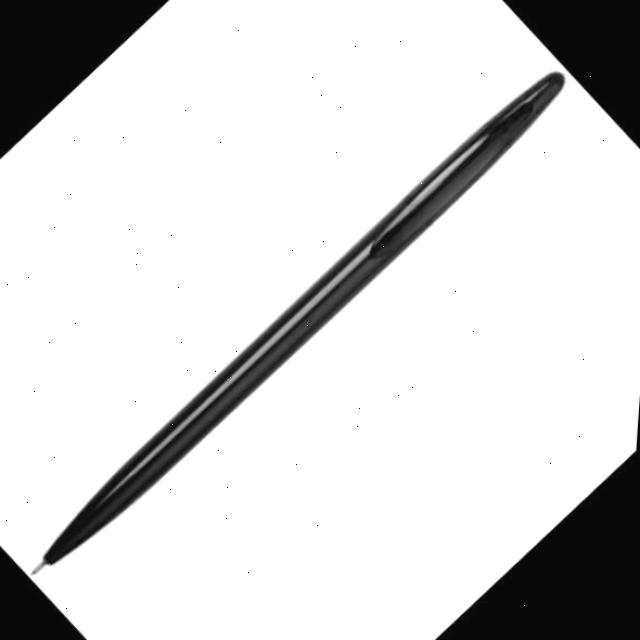pencil: (18, 59, 576, 586)
